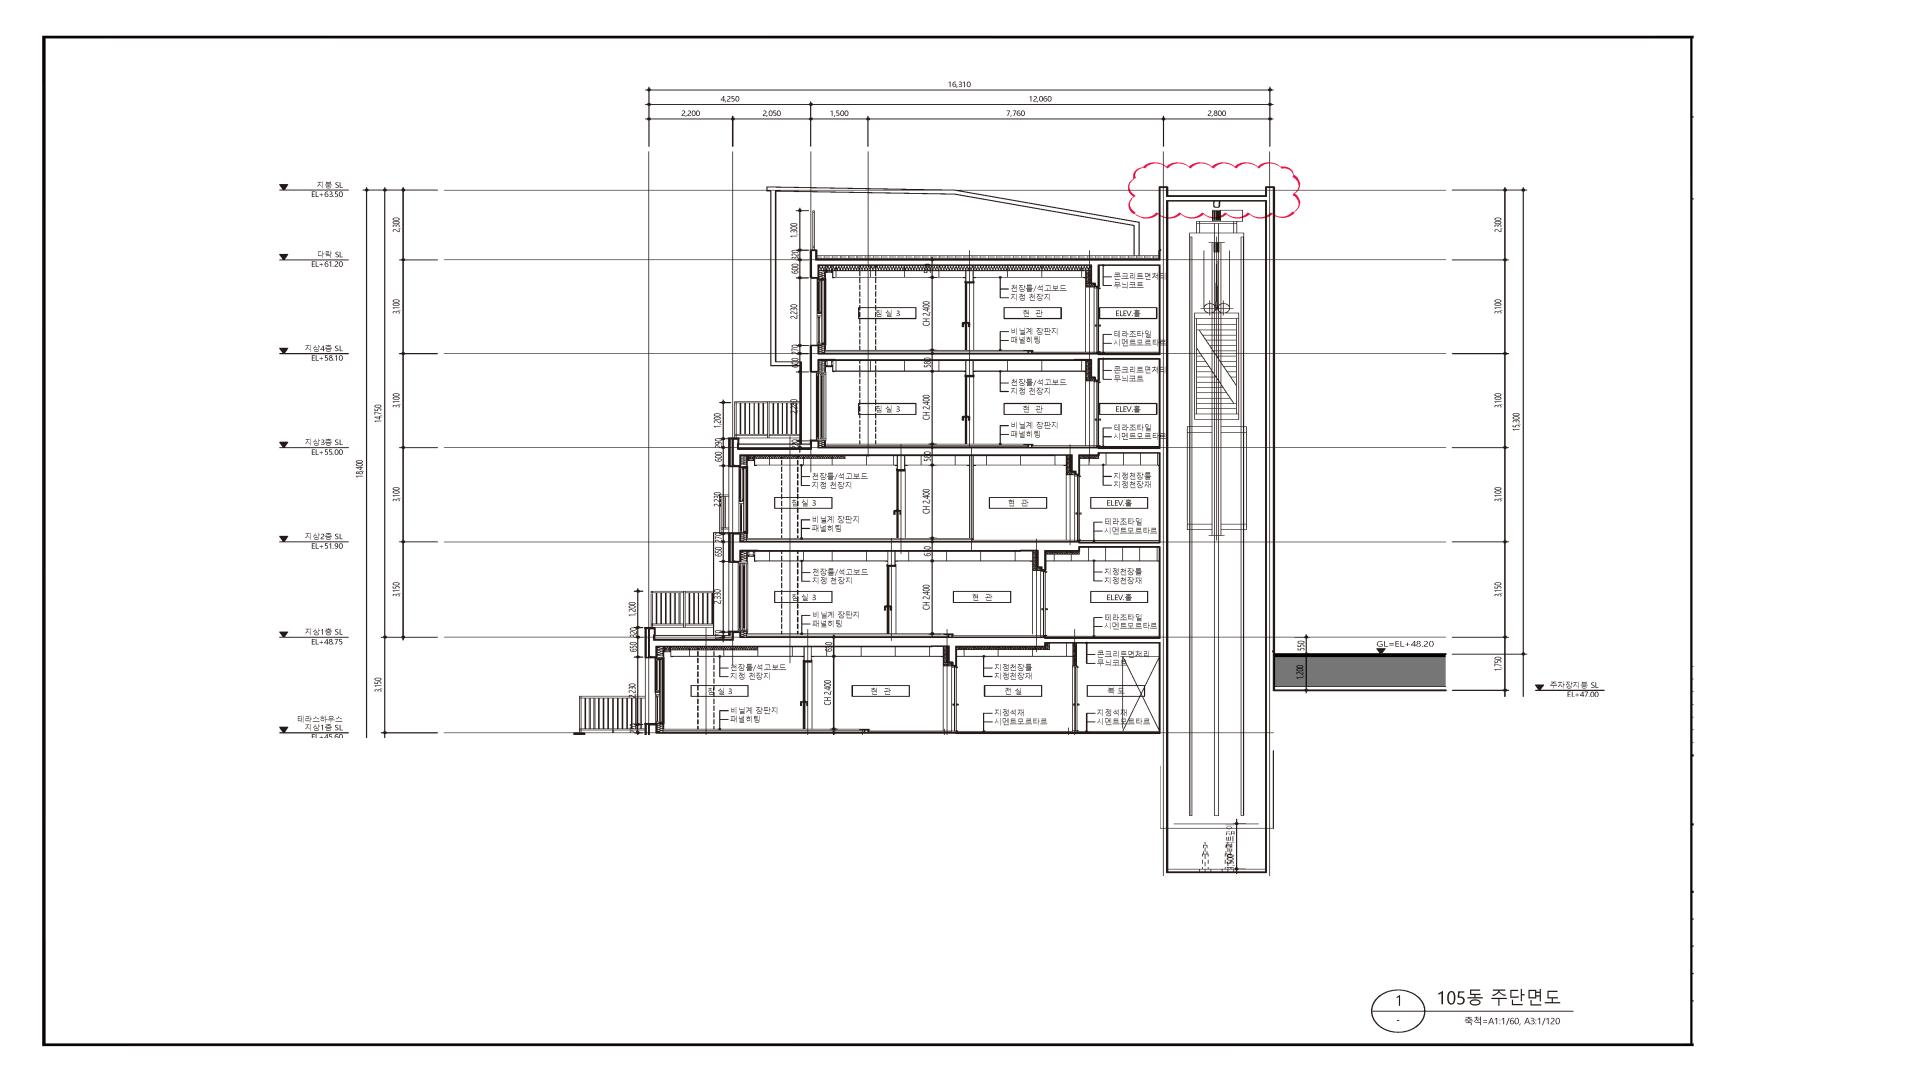door: (1085, 381, 1101, 447), (1085, 287, 1101, 353), (1066, 476, 1082, 541), (1032, 571, 1048, 636), (943, 666, 959, 731), (962, 375, 975, 444), (893, 470, 906, 538), (800, 660, 812, 729), (884, 565, 896, 633), (962, 284, 974, 350), (1072, 665, 1080, 731)
wall: (648, 186, 1275, 872), (965, 361, 974, 375), (965, 271, 974, 284), (804, 647, 812, 660), (888, 552, 896, 565), (897, 456, 905, 469)
window: (732, 563, 748, 630), (649, 658, 665, 723), (732, 467, 748, 532), (811, 279, 826, 345), (811, 373, 826, 439)
